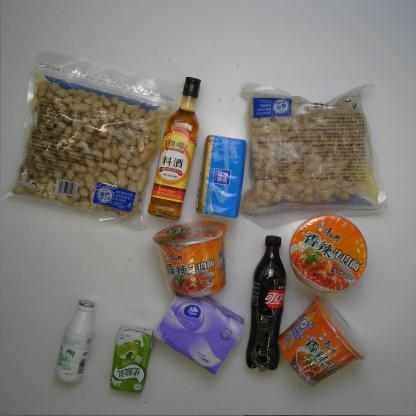Dried Food: (0, 52, 183, 231), (236, 74, 392, 223)
Drink: (244, 235, 287, 374)
Instant Noodles: (277, 293, 370, 389), (288, 212, 370, 295), (152, 216, 232, 298)
Milk: (53, 296, 99, 384), (109, 320, 156, 396)
Seasoner: (144, 73, 202, 224)
Tissue: (154, 283, 243, 378), (192, 132, 250, 219)
